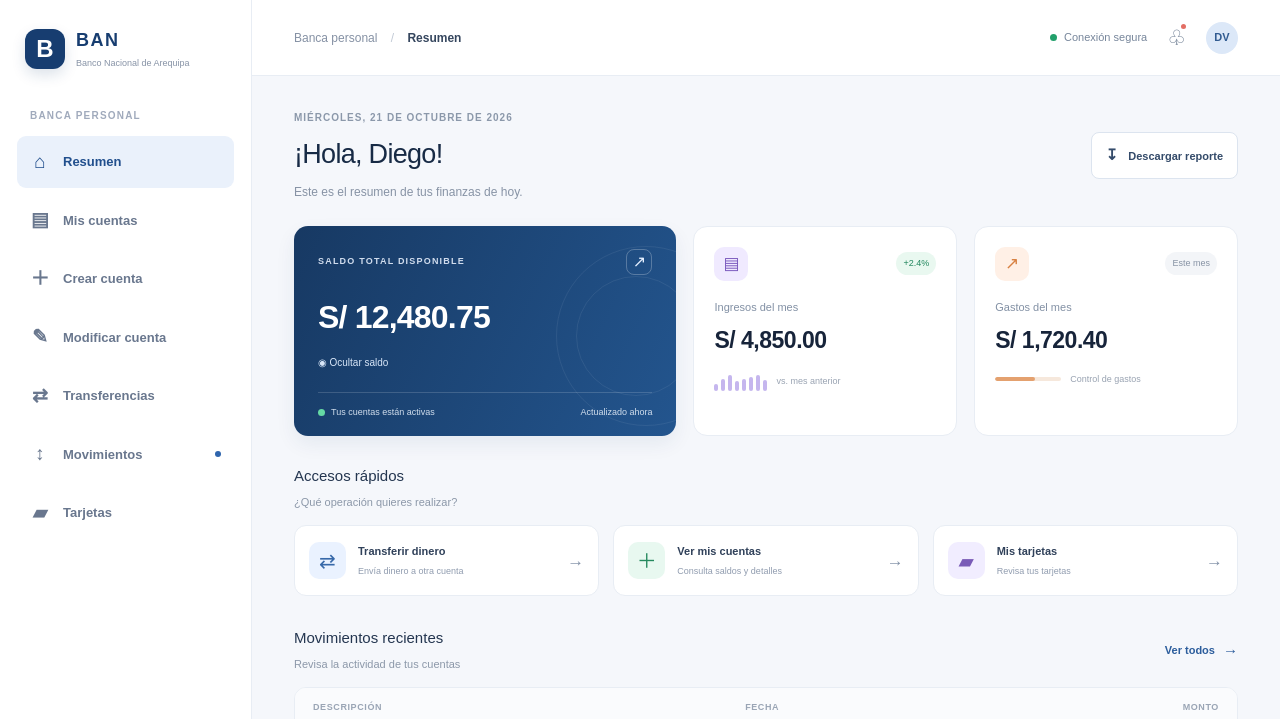
Test: Transferencias › CP-13 Rechaza monto inválido (-50)
Click the button "⇄ Transferencias" at (126, 396), box left=17, top=370, right=234, bottom=422
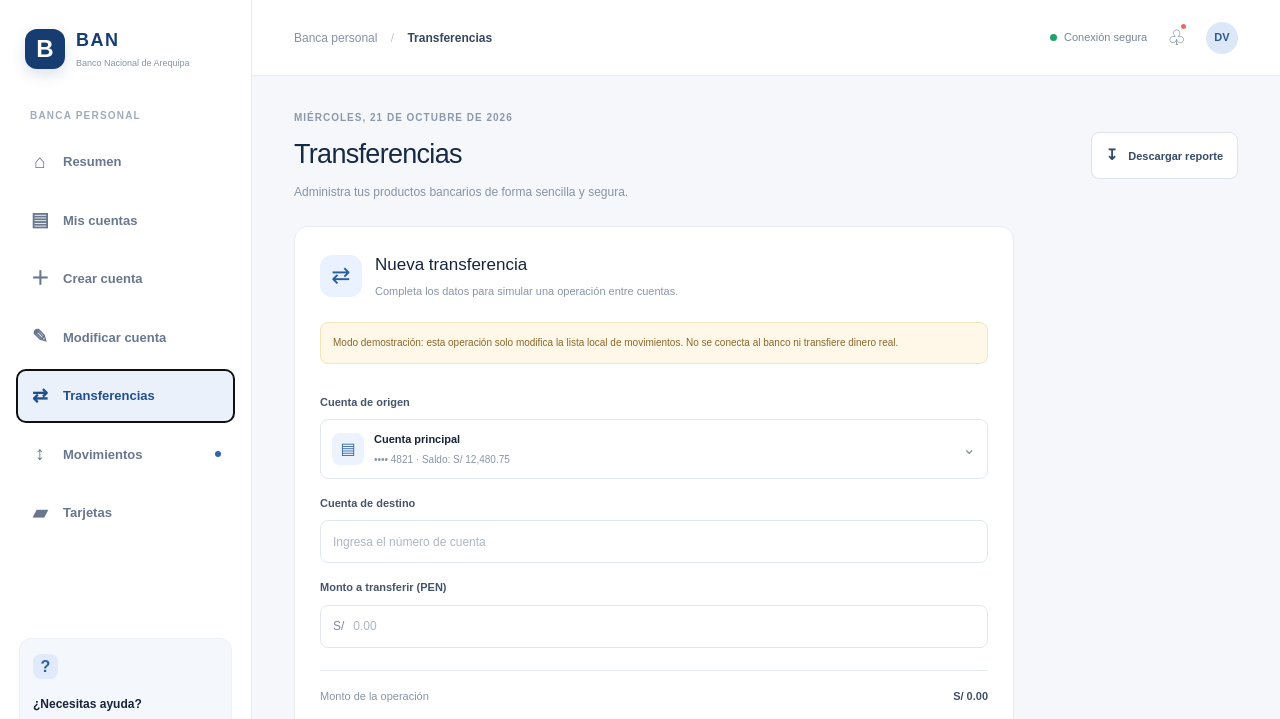
Type "123456789" into the field labelled "Cuenta de destino" at (654, 542), box left=320, top=520, right=988, bottom=563
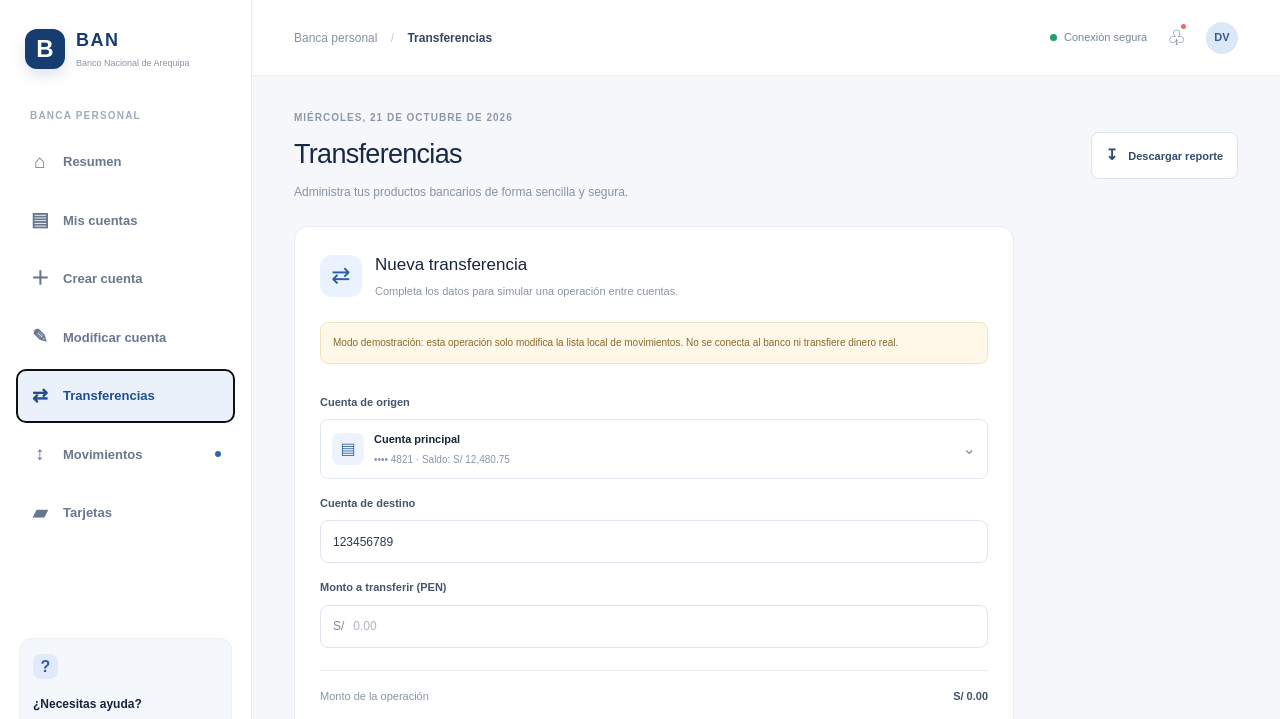
Type "-50" into the number field labelled "Monto a transferir (PEN)" at (664, 626), box left=353, top=606, right=975, bottom=646
(page scrolled)
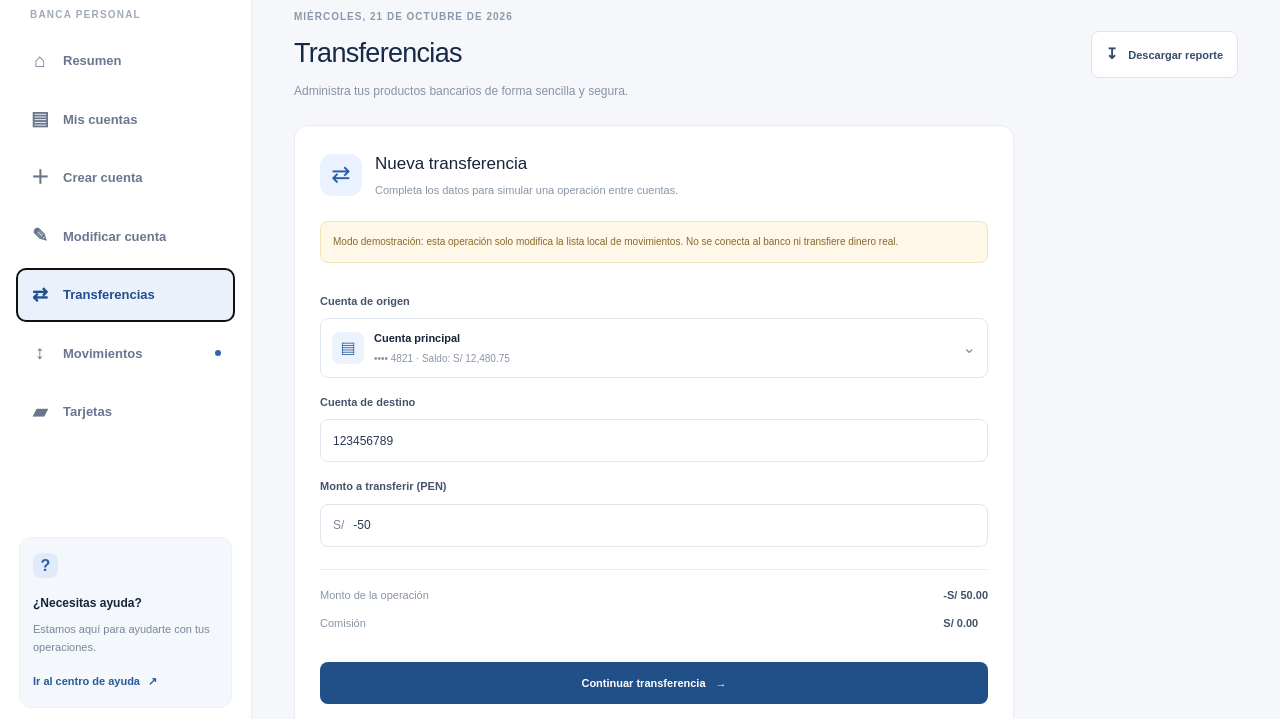
Submit the form named "Continuar transferencia", box left=320, top=286, right=988, bottom=704
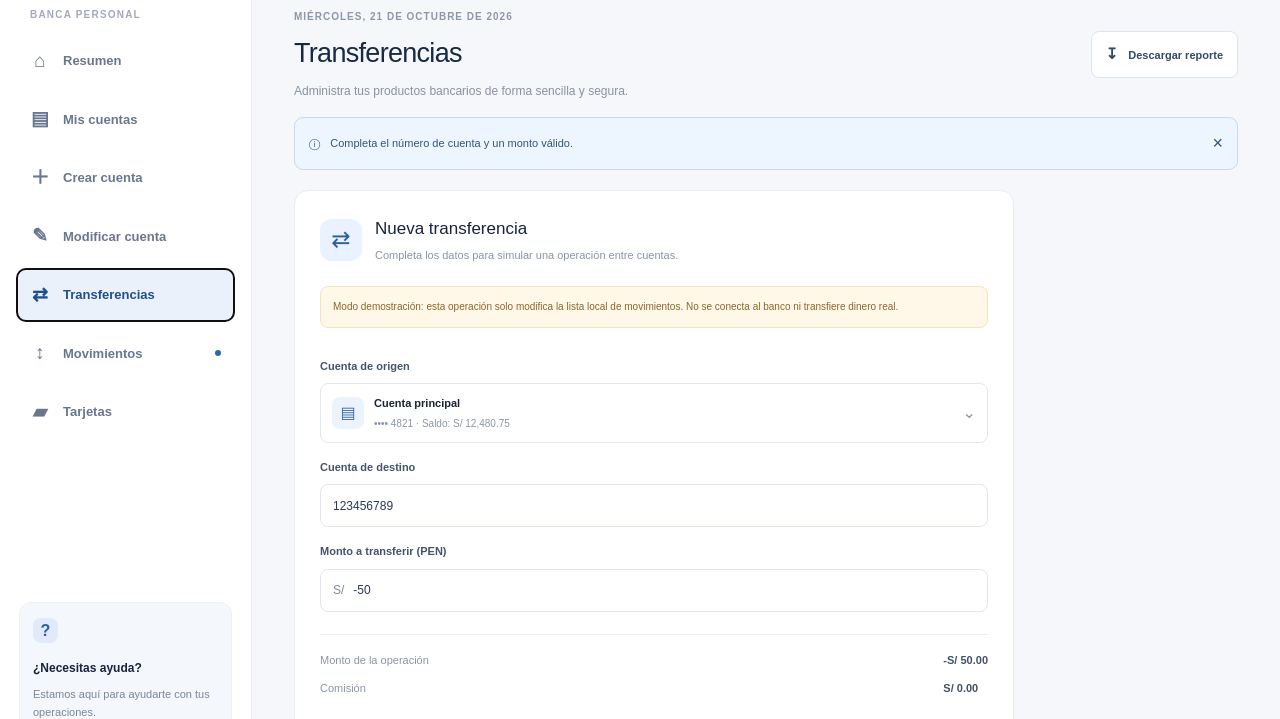
Result: the message shows "Completa el número de cuenta y un monto válido." at left=330, top=137, right=573, bottom=149
